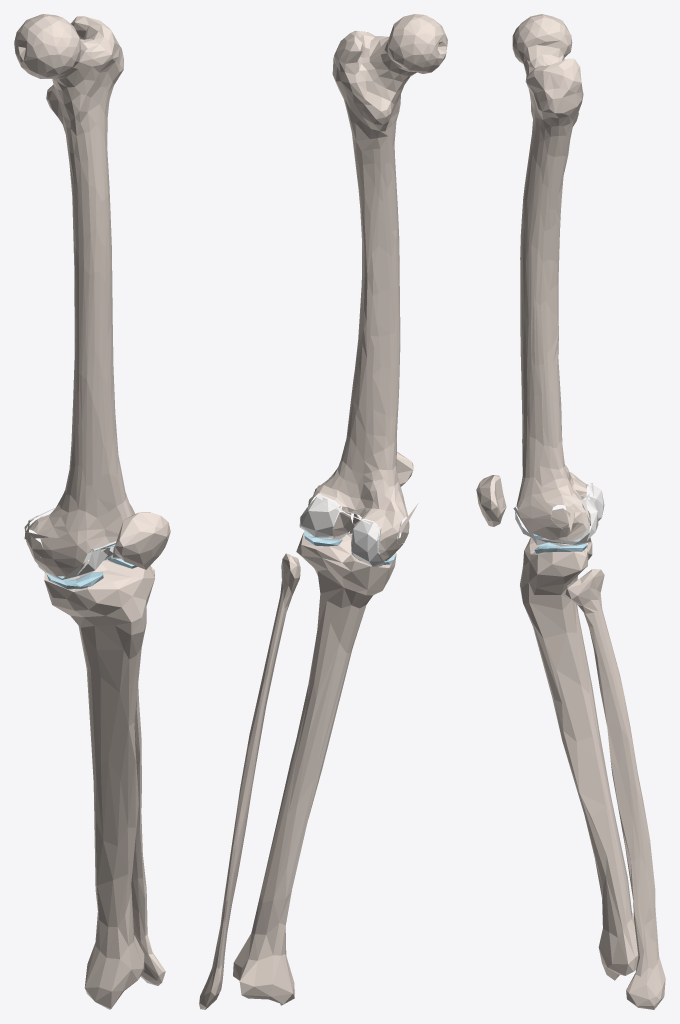
File: VH_M_Knee_L_0.1.glb
The picture shows the model from 3 angles, left to right: view 1: azimuth 30°, elevation 25°; view 2: azimuth 150°, elevation 25°; view 3: azimuth 270°, elevation 25°; orthographic projection. The views are drawn at different scales.
Parts seen in each view (by area): view 1: VH_M_femur_L, VH_M_tibia_L, VH_M_fibula_L, VH_M_patella_L, VH_M_meniscus_L; view 2: VH_M_femur_L, VH_M_tibia_L, VH_M_fibula_L, VH_M_lateral_condyle_of_femur_inf_L, VH_M_medial_condyle_of_left_femur_inf; view 3: VH_M_femur_L, VH_M_tibia_L, VH_M_fibula_L, VH_M_patella_L, VH_M_articular_cartilage_of_knee_L, VH_M_meniscus_L.
Boxes of the visible parts, x1,y1,x2,y2 form: VH_M_femur_L: [14, 14, 135, 576]; VH_M_tibia_L: [44, 548, 154, 1009]; VH_M_fibula_L: [131, 567, 165, 985]; VH_M_patella_L: [114, 512, 170, 569]; VH_M_meniscus_L: [46, 542, 137, 589]; VH_M_femur_L: [308, 14, 447, 560]; VH_M_tibia_L: [233, 532, 396, 1005]; VH_M_fibula_L: [199, 553, 300, 1009]; VH_M_lateral_condyle_of_femur_inf_L: [299, 497, 341, 536]; VH_M_medial_condyle_of_left_femur_inf: [351, 519, 380, 565]; VH_M_femur_L: [512, 14, 589, 541]; VH_M_tibia_L: [520, 537, 638, 980]; VH_M_fibula_L: [565, 569, 665, 1009]; VH_M_patella_L: [476, 475, 506, 526]; VH_M_articular_cartilage_of_knee_L: [513, 483, 593, 545]; VH_M_meniscus_L: [533, 528, 587, 553].
Size of the model in its own units: 0.1739 by 0.8881 by 0.1652.
